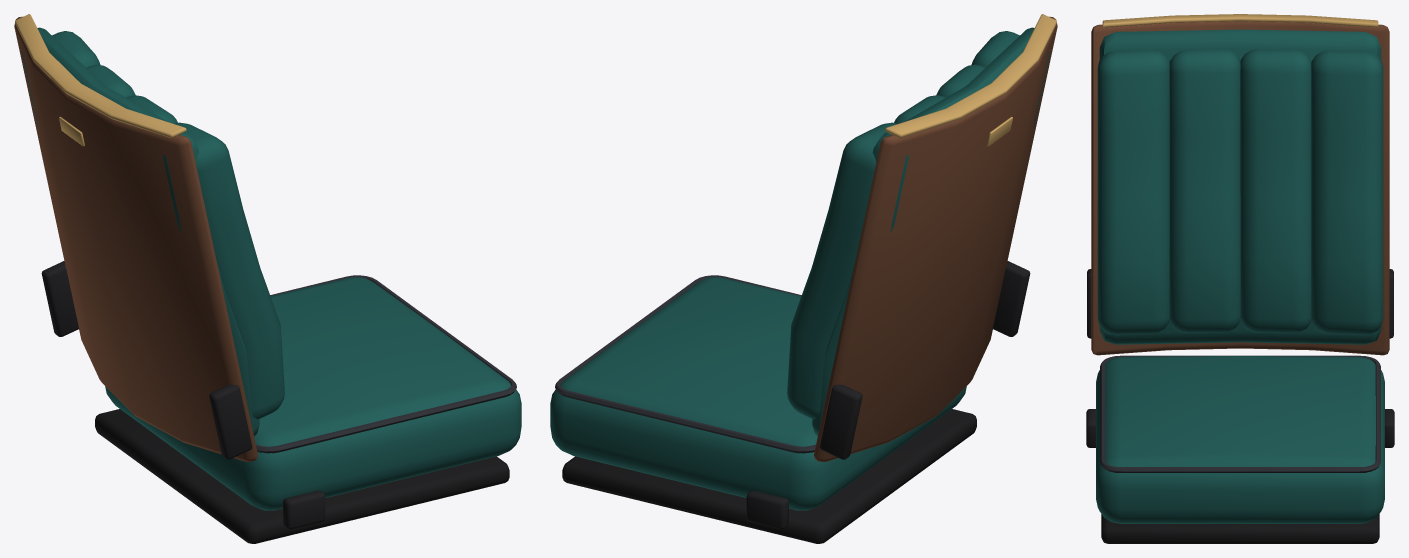
The model's file is seat_classic.glb.
3 views of the same model, side by side, from view 1: azimuth 30°, elevation 25°; view 2: azimuth 150°, elevation 25°; view 3: azimuth 270°, elevation 25° (orthographic). The views are drawn at different scales.
Parts seen in each view (by area): view 1: Shell_LOD0, Cushion_LOD0, Pan_LOD0, Channel0_LOD0, ShellCap_LOD0, BackPad_LOD0, Welt_LOD0, BackPivot0_LOD0, BackPivot2_LOD0, SeatPivot0_LOD0, Channel3_LOD0, Channel2_LOD0; view 2: Shell_LOD0, Cushion_LOD0, Pan_LOD0, Channel3_LOD0, ShellCap_LOD0, BackPad_LOD0, Welt_LOD0, BackPivot2_LOD0, BackPivot0_LOD0, SeatPivot2_LOD0, Channel0_LOD0, Channel1_LOD0; view 3: Cushion_LOD0, Channel0_LOD0, Channel3_LOD0, Channel1_LOD0, Channel2_LOD0, Shell_LOD0, BackPad_LOD0, Pan_LOD0, Welt_LOD0, ShellCap_LOD0, SeatPivot0_LOD0, SeatPivot2_LOD0.
Boxes of the visible parts, x1,y1,x2,y2 form: Shell_LOD0: (14,16,257,461); Cushion_LOD0: (105,277,521,510); Pan_LOD0: (95,409,509,543); Channel0_LOD0: (174,122,284,419); ShellCap_LOD0: (15,14,186,137); BackPad_LOD0: (21,27,259,436); Welt_LOD0: (256,275,516,453); BackPivot0_LOD0: (209,384,252,459); BackPivot2_LOD0: (41,261,78,336); SeatPivot0_LOD0: (283,490,325,529); Channel3_LOD0: (52,31,100,67); Channel2_LOD0: (86,64,135,97); Shell_LOD0: (814,16,1057,461); Cushion_LOD0: (550,277,966,510); Pan_LOD0: (562,409,976,543); Channel3_LOD0: (787,122,897,419); ShellCap_LOD0: (885,14,1056,137); BackPad_LOD0: (812,27,1050,436); Welt_LOD0: (555,275,815,453); BackPivot2_LOD0: (819,384,862,459); BackPivot0_LOD0: (993,261,1030,336); SeatPivot2_LOD0: (746,490,788,529); Channel0_LOD0: (971,31,1019,67); Channel1_LOD0: (936,64,985,97); Cushion_LOD0: (1096,356,1384,523); Channel0_LOD0: (1097,50,1169,335); Channel3_LOD0: (1311,50,1383,335); Channel1_LOD0: (1169,49,1240,333); Channel2_LOD0: (1240,49,1311,333); Shell_LOD0: (1091,21,1389,355); BackPad_LOD0: (1099,29,1381,344); Pan_LOD0: (1101,514,1379,543); Welt_LOD0: (1100,355,1380,472); ShellCap_LOD0: (1102,14,1378,27); SeatPivot0_LOD0: (1086,409,1095,447); SeatPivot2_LOD0: (1385,409,1394,447).
Size of what is drawn, in the model's own units: 0.7025 by 0.7597 by 0.554.
